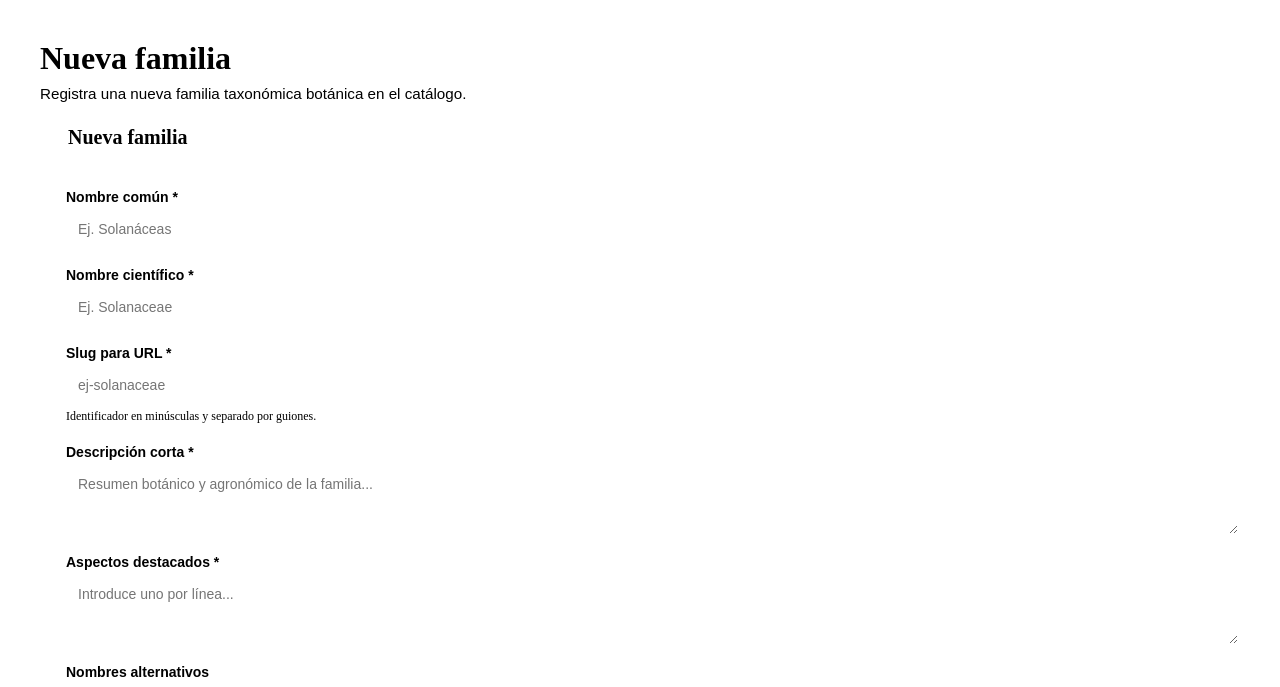
Test case: FamilyCreatePage › opens cancel confirmation modal when cancelling dirty form
Type "Solanáceas" into the field labelled "Nombre común *" at (652,229), box [66,211,1238,247]
(page scrolled)
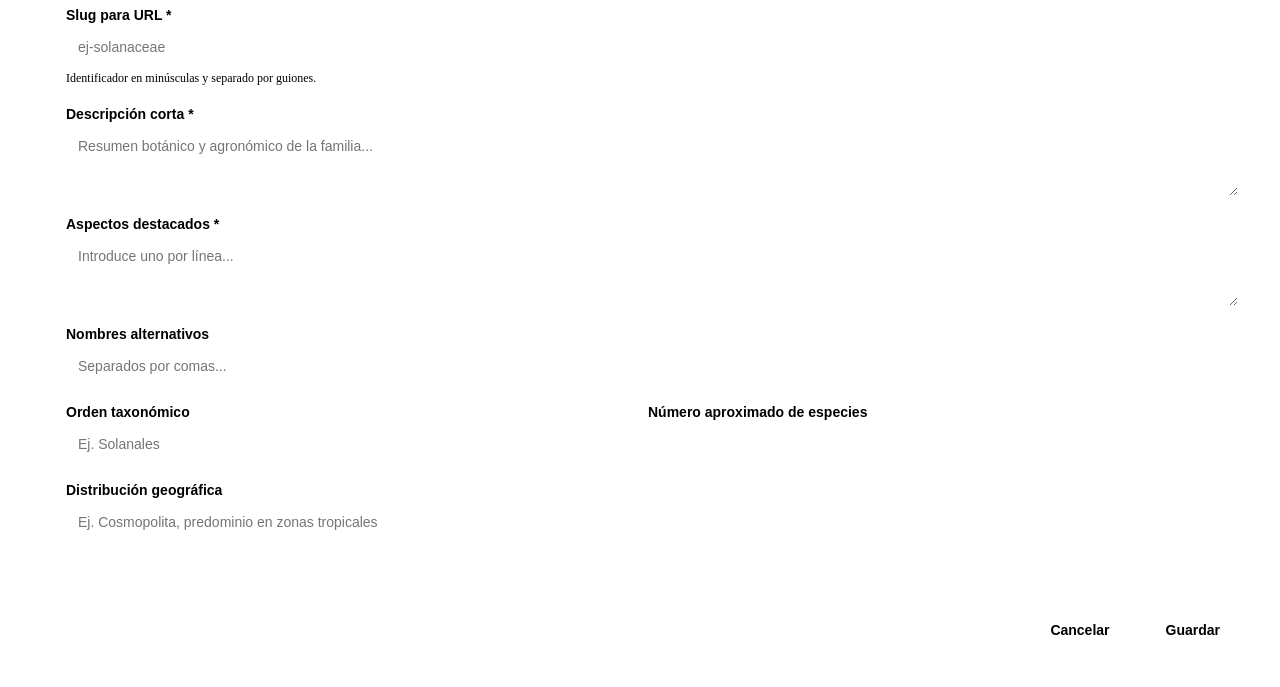
Click the button "Cancelar" at (1080,630), box [1030,612,1130,648]
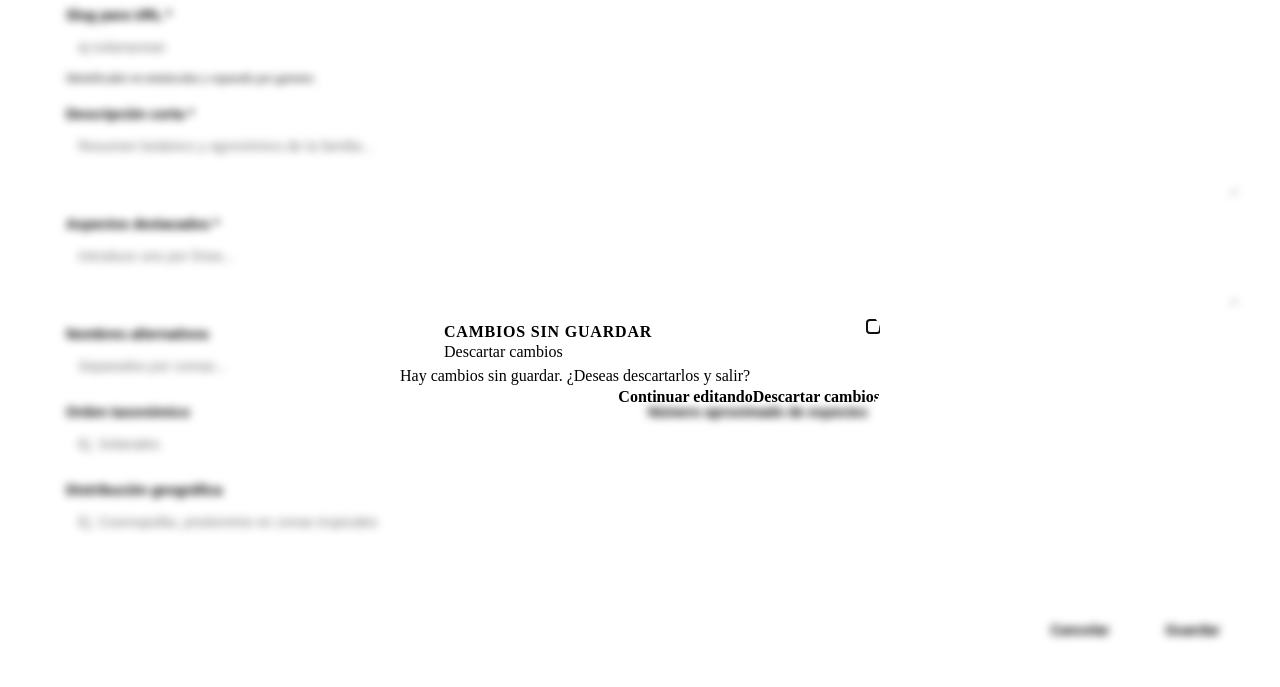
Now the dialog is shown, box [400,314,880,406]
